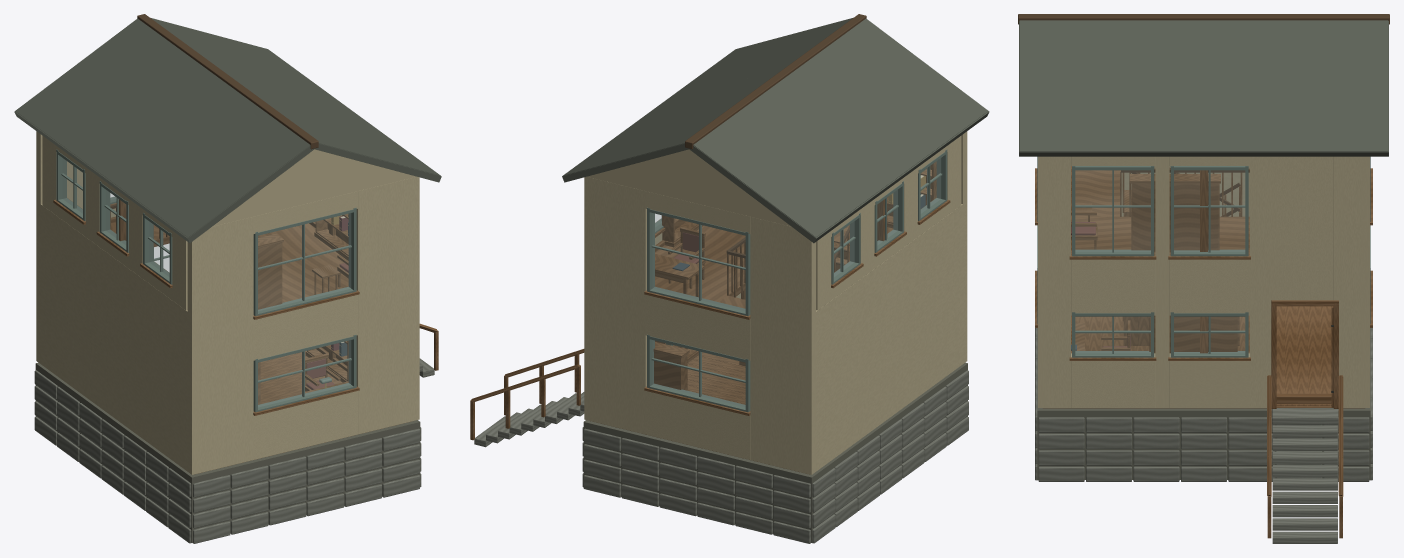
Rendered from library-hero.glb.
3 views of the same model, side by side, from view 1: azimuth 30°, elevation 25°; view 2: azimuth 150°, elevation 25°; view 3: azimuth 270°, elevation 25° (orthographic). The views are drawn at different scales.
Parts seen in each view (by area): view 1: library_static_Library_warm_limewash, library_static_Library_weathered_cedar_shingles, library_static_Library_fieldstone, library_static_Library_window_glass, library_static_Library_rubbed_oak_and_joinery, library_static_Library_muted_green_window_joinery, library_static_Library_recessed_lime_mortar, library_static_Library_oiled_stair_handrail, ground_reading_chair_visual; view 2: library_static_Library_warm_limewash, library_static_Library_weathered_cedar_shingles, library_static_Library_fieldstone, library_static_Library_rubbed_oak_and_joinery, library_static_Library_window_glass, library_static_Library_muted_green_window_joinery, library_static_Library_recessed_lime_mortar, library_static_Library_oiled_stair_handrail, upper_desk_chair_visual; view 3: library_static_Library_warm_limewash, library_static_Library_weathered_cedar_shingles, library_static_Library_rubbed_oak_and_joinery, library_static_Library_fieldstone, library_static_Library_window_glass, library_static_Library_muted_green_window_joinery, library_static_Library_recessed_lime_mortar, library_static_Library_oiled_stair_handrail, upper_window_chair_visual.
Part boxes in pixels (x1,y1,x2,y2): library_static_Library_warm_limewash: (36, 131, 419, 474); library_static_Library_weathered_cedar_shingles: (14, 18, 441, 242); library_static_Library_fieldstone: (34, 358, 434, 543); library_static_Library_window_glass: (63, 159, 350, 406); library_static_Library_rubbed_oak_and_joinery: (53, 198, 438, 473); library_static_Library_muted_green_window_joinery: (56, 149, 356, 412); library_static_Library_recessed_lime_mortar: (35, 362, 420, 542); library_static_Library_oiled_stair_handrail: (110, 14, 318, 237); ground_reading_chair_visual: (305, 353, 340, 391); library_static_Library_warm_limewash: (584, 131, 967, 474); library_static_Library_weathered_cedar_shingles: (562, 17, 989, 243); library_static_Library_fieldstone: (474, 370, 968, 543); library_static_Library_rubbed_oak_and_joinery: (470, 161, 950, 472); library_static_Library_window_glass: (653, 158, 940, 406); library_static_Library_muted_green_window_joinery: (647, 149, 947, 412); library_static_Library_recessed_lime_mortar: (583, 362, 967, 542); library_static_Library_oiled_stair_handrail: (685, 14, 866, 265); upper_desk_chair_visual: (668, 227, 705, 288); library_static_Library_warm_limewash: (1038, 156, 1369, 407); library_static_Library_weathered_cedar_shingles: (1019, 20, 1388, 156); library_static_Library_rubbed_oak_and_joinery: (1035, 166, 1372, 538); library_static_Library_fieldstone: (1035, 328, 1372, 543); library_static_Library_window_glass: (1075, 170, 1244, 352); library_static_Library_muted_green_window_joinery: (1037, 156, 1370, 357); library_static_Library_recessed_lime_mortar: (1037, 328, 1370, 479); library_static_Library_oiled_stair_handrail: (1018, 14, 1389, 216); upper_window_chair_visual: (1071, 196, 1097, 249).
Bounding box in the file's own units: 8.72 × 8.63 × 7.16.
18 materials, 4 textured.
